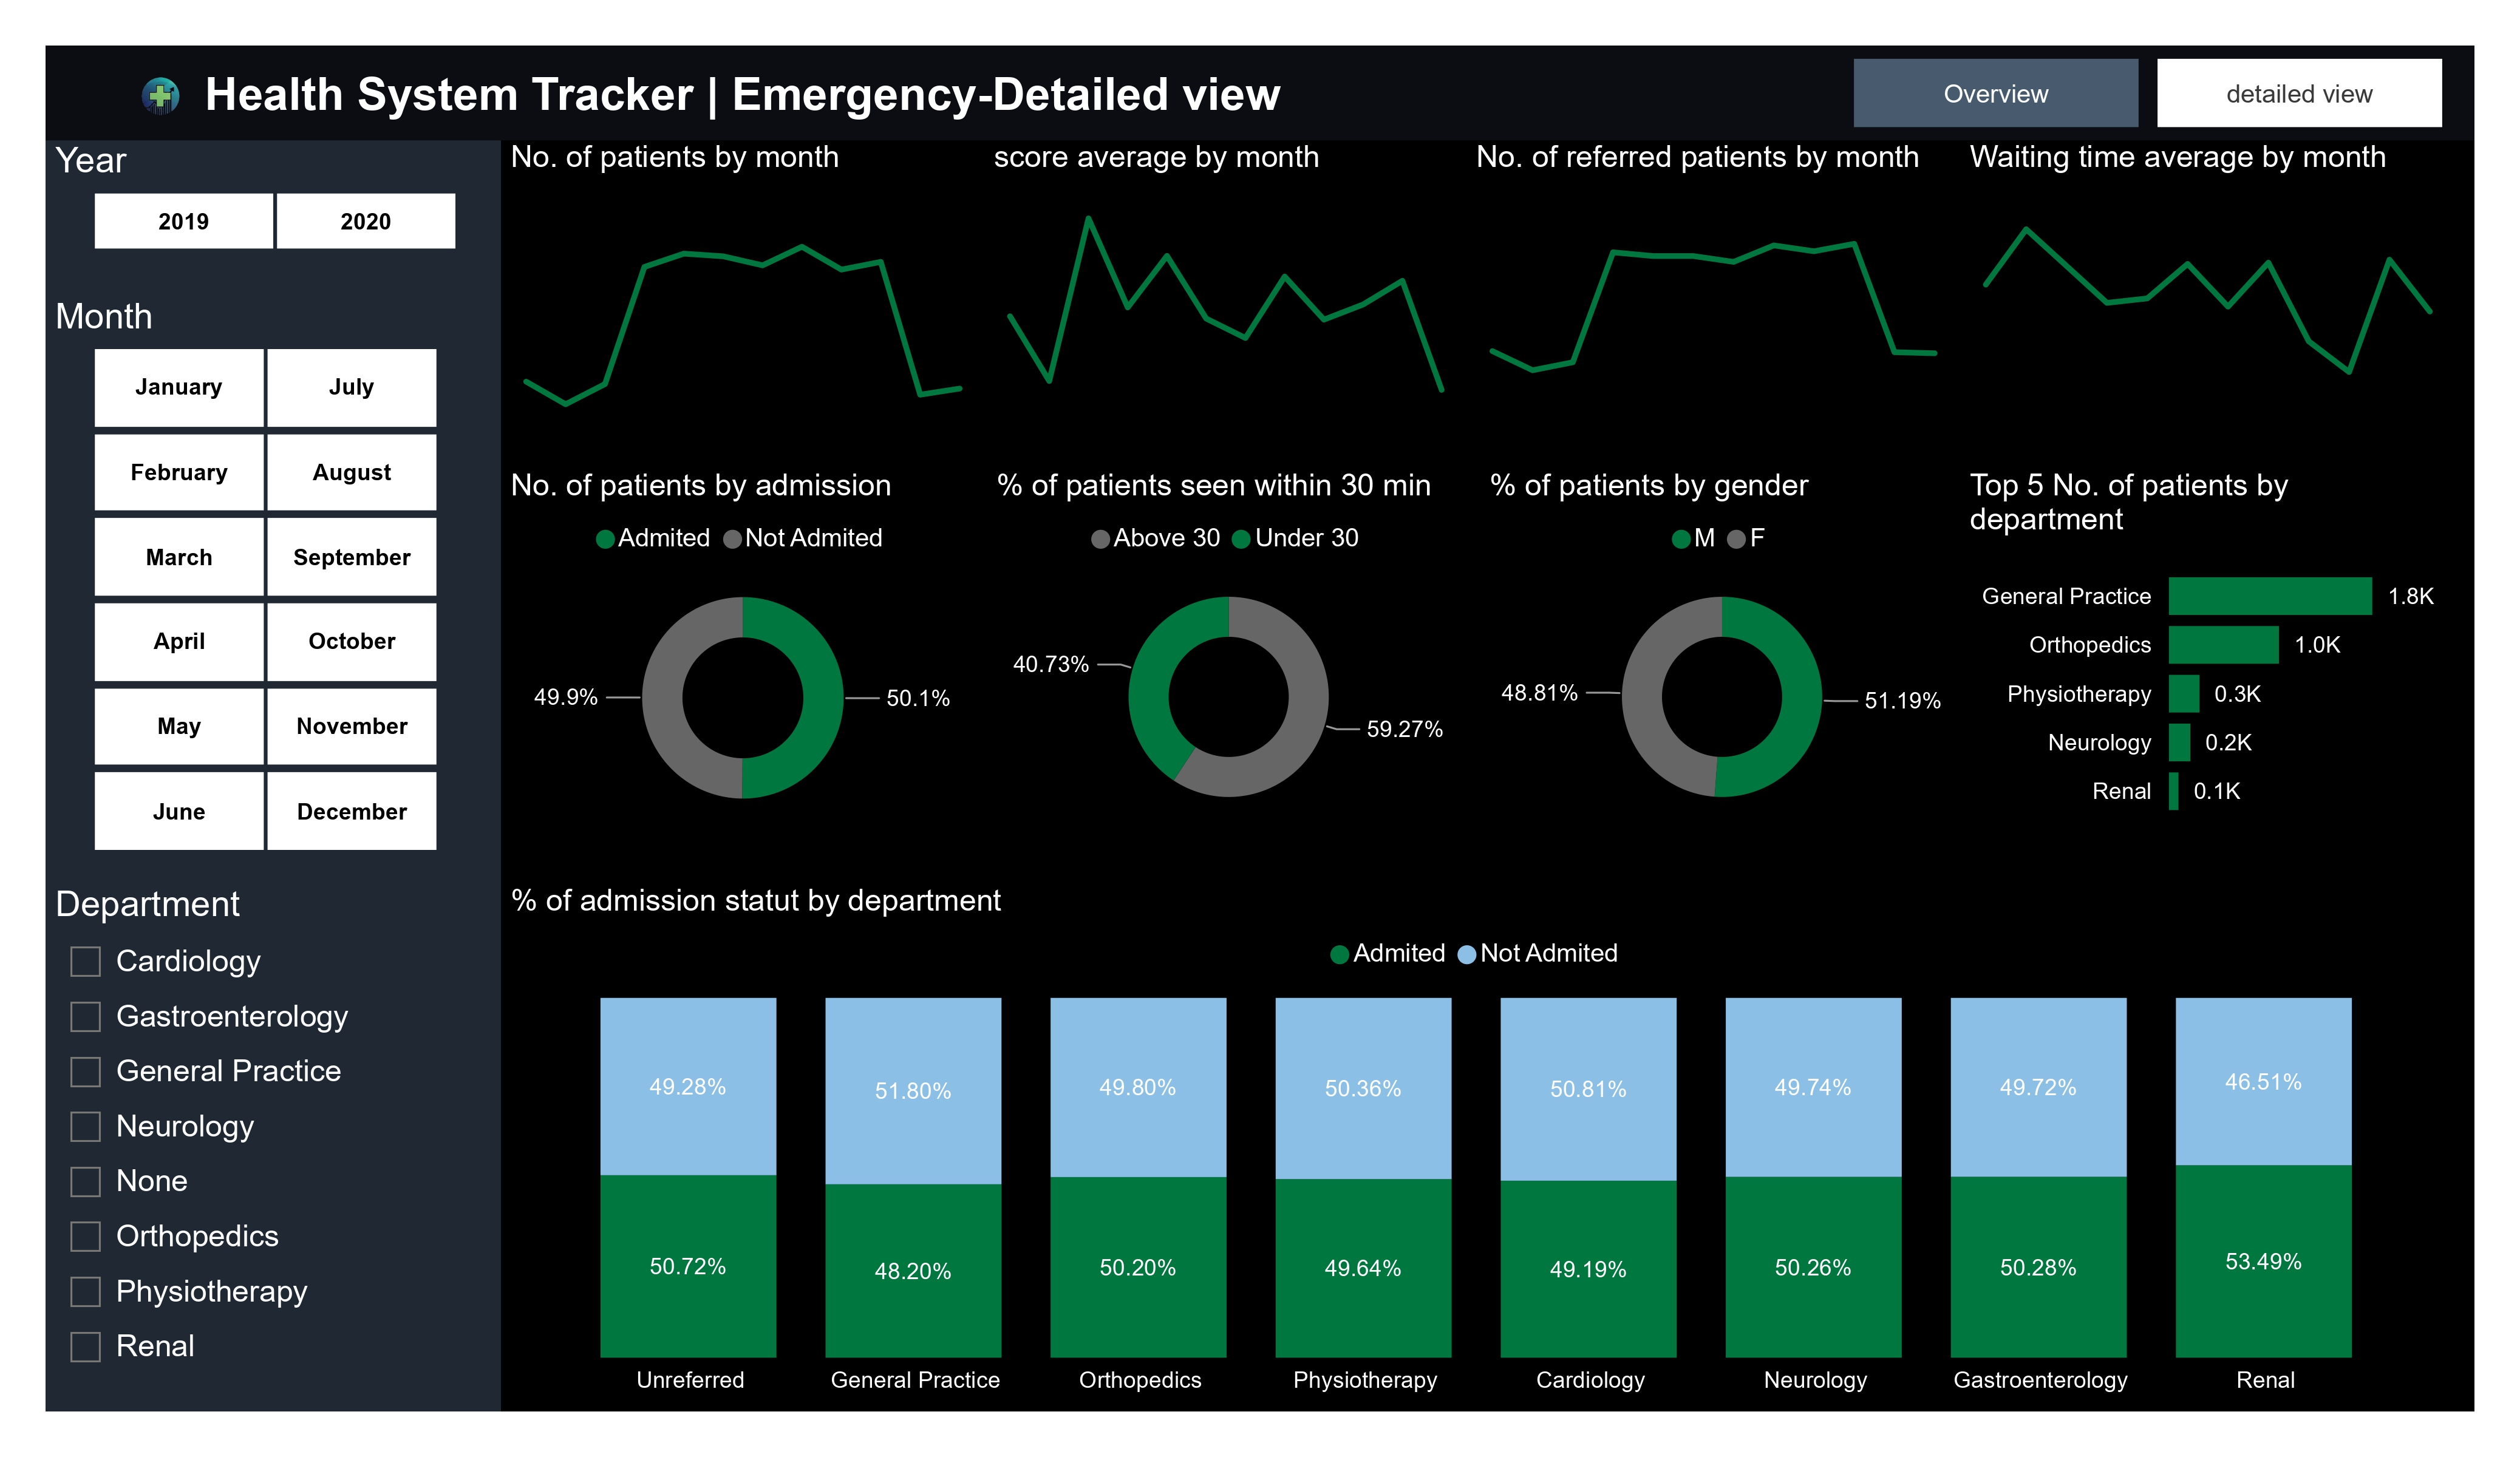

Layout of this report page (visuals, bound fields, positions):
{"tool":"powerbi","page":{"name":"detailed view","canvas":[1280,720],"ordinal":1},"visuals":[{"type":"group","id":"g1","title":"Group 1","box":[0,0,1280.2,720],"z":0},{"type":"shape","box":[0,43.2,240.5,676.8],"z":0,"group":"g1"},{"type":"lineChart","title":"No. of patients by month","fields":{"Category":["Hospital%20ER.Date.Variation.Date Hierarchy.Month"],"Y":["CountNonNull(Hospital%20ER.ID)"]},"box":[240.5,50.4,254.9,148.3],"z":1000,"group":"g1"},{"type":"lineChart","title":"score average by month","fields":{"Category":["Hospital%20ER.Date.Variation.Date Hierarchy.Month"],"Y":["Avg(Hospital%20ER.sat_score)"]},"box":[495.4,50.4,253.4,148.3],"z":1000},{"type":"shape","box":[0,0,1280.2,50.4],"z":2000,"group":"g1"},{"type":"lineChart","title":"No. of referred patients by month","fields":{"Category":["Hospital%20ER.Date.Variation.Date Hierarchy.Month"],"Y":["CountNonNull(Hospital%20ER.ID)"]},"box":[748.8,50.4,260.6,148.3],"z":2000},{"type":"image","box":[3.1,0,115,53.3],"z":2001,"group":"g2"},{"type":"group","id":"g2","title":"Group 2","box":[3.1,0,753.1,53.3],"z":3000},{"type":"slicer","title":"Year","fields":{"Values":["Hospital%20ER.Date.Variation.Date Hierarchy.Year"]},"box":[0,50.4,240.5,63.4],"z":3000,"group":"g1"},{"type":"lineChart","title":"Waiting time average by month","fields":{"Category":["Hospital%20ER.Date.Variation.Date Hierarchy.Month"],"Y":["Avg(Hospital%20ER.waiting Time)"]},"box":[1009.4,50.4,260.6,148.3],"z":4000},{"type":"slicer","title":"Month","fields":{"Values":["Hospital%20ER.Date.Variation.Date Hierarchy.Month"]},"box":[0,132.5,230.4,298.1],"z":4000,"group":"g1"},{"type":"donutChart","title":"No. of patients by admission","fields":{"Category":["Hospital%20ER.Admission"],"Y":["CountNonNull(Hospital%20ER.ID)"]},"box":[240.5,223.2,254.9,195.8],"z":5000},{"type":"slicer","title":"Department","fields":{"Values":["Hospital%20ER.Department"]},"box":[0,442.1,240.5,277.9],"z":5000,"group":"g1"},{"type":"pageNavigator","box":[953.3,7.2,311,36],"z":6000,"group":"g1"},{"type":"donutChart","title":"% of patients by gender","fields":{"Category":["Hospital%20ER.Gender"],"Y":["CountNonNull(Hospital%20ER.ID)"]},"box":[755.9,223.4,255.3,194.9],"z":6000},{"type":"textbox","box":[79.5,6.7,676.7,46.7],"z":7000,"group":"g2"},{"type":"clusteredBarChart","title":"Top 5 No. of patients by department","fields":{"Category":["Hospital%20ER.Department1"],"Y":["CountNonNull(Hospital%20ER.ID)"]},"box":[1009.4,223.2,254.9,195.8],"z":7000},{"type":"hundredPercentStackedColumnChart","title":"% of admission statut by department","fields":{"Category":["Hospital%20ER.Department1"],"Series":["Hospital%20ER.Admission"],"Y":["CountNonNull(Hospital%20ER.ID)"]},"box":[240.5,442.1,1029.6,277.9],"z":8000},{"type":"donutChart","title":"% of patients seen within 30 min","fields":{"Category":["Emergency.Group BY TIME"],"Y":["CountNonNull(Hospital%20ER.ID)"]},"box":[495.5,223.4,255.3,194.9],"z":9000}]}

Visuals, with their boxes on the page's 1280x720 design canvas (x1, y1, x2, y2). These are canvas units, not pixel positions in the 2520x1457 screenshot, which may show the page scaled, cropped or inside an application window:
"Group 1" group: 0, 0, 1280, 720
shape: 0, 43, 240, 720
"No. of patients by month" lineChart: 240, 50, 495, 199
"score average by month" lineChart: 495, 50, 749, 199
shape: 0, 0, 1280, 50
"No. of referred patients by month" lineChart: 749, 50, 1009, 199
image: 3, 0, 118, 53
"Group 2" group: 3, 0, 756, 53
"Year" slicer: 0, 50, 240, 114
"Waiting time average by month" lineChart: 1009, 50, 1270, 199
"Month" slicer: 0, 132, 230, 431
"No. of patients by admission" donutChart: 240, 223, 495, 419
"Department" slicer: 0, 442, 240, 720
pageNavigator: 953, 7, 1264, 43
"% of patients by gender" donutChart: 756, 223, 1011, 418
textbox: 80, 7, 756, 53
"Top 5 No. of patients by department" clusteredBarChart: 1009, 223, 1264, 419
"% of admission statut by department" hundredPercentStackedColumnChart: 240, 442, 1270, 720
"% of patients seen within 30 min" donutChart: 496, 223, 751, 418
